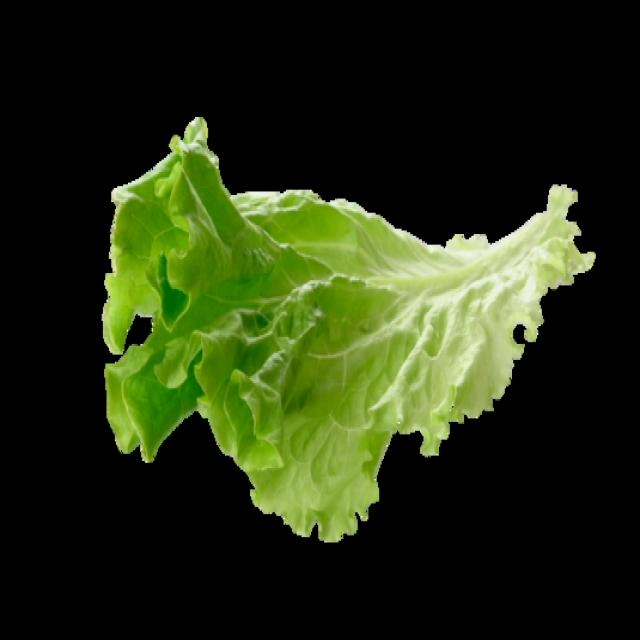lettuce: (100, 113, 596, 544)
